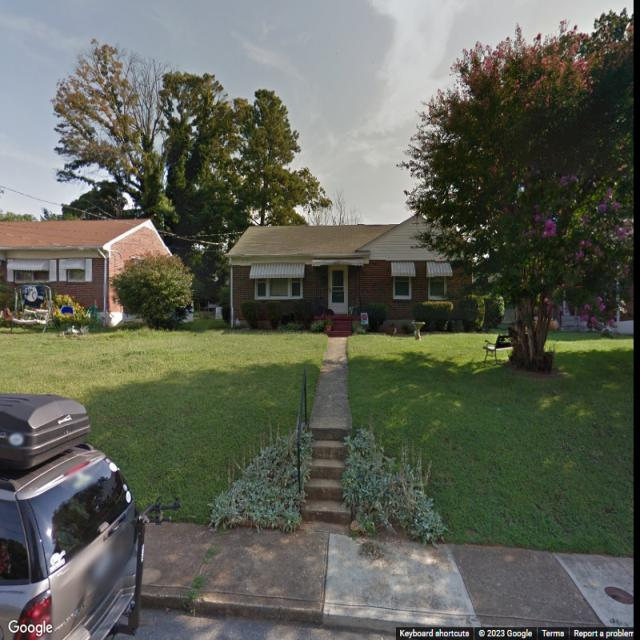House: (225, 214, 476, 334), (0, 218, 173, 328), (557, 238, 633, 336)
